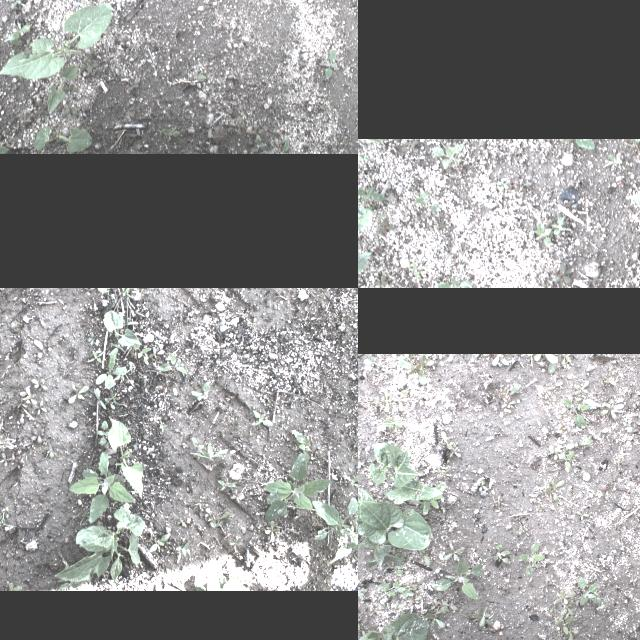crop: (0, 4, 111, 80), (54, 506, 144, 584), (358, 484, 431, 568), (368, 443, 440, 503), (109, 418, 143, 498), (358, 614, 429, 640), (46, 63, 80, 114), (32, 126, 92, 152), (103, 310, 141, 346), (376, 416, 406, 432)
weed: (68, 451, 136, 523), (264, 453, 330, 521), (311, 497, 358, 563), (435, 556, 485, 600), (94, 348, 126, 388), (518, 542, 546, 580), (429, 144, 463, 172), (192, 437, 228, 463), (564, 398, 590, 429), (378, 579, 418, 599), (407, 357, 435, 385), (422, 485, 448, 515), (530, 219, 554, 251), (576, 576, 600, 608), (165, 67, 207, 85), (292, 429, 312, 465), (468, 603, 494, 629), (157, 352, 187, 373), (207, 512, 233, 536), (552, 262, 578, 284), (358, 183, 390, 200), (9, 19, 33, 41), (7, 36, 35, 54), (435, 275, 472, 288), (362, 356, 392, 372), (558, 139, 596, 151), (358, 251, 373, 281), (148, 532, 170, 552), (68, 384, 90, 404), (190, 380, 212, 400), (492, 542, 512, 564), (250, 409, 274, 427), (546, 478, 564, 502), (358, 203, 375, 228), (324, 50, 338, 80), (96, 420, 112, 446), (600, 402, 626, 418), (412, 188, 432, 208), (603, 153, 623, 173), (436, 600, 460, 616), (553, 589, 577, 605), (81, 54, 99, 74), (556, 616, 574, 636), (0, 506, 17, 527), (134, 343, 150, 365), (341, 472, 358, 492), (394, 390, 411, 410), (418, 384, 438, 401), (228, 116, 244, 136), (264, 522, 280, 542), (442, 545, 462, 561), (535, 386, 555, 402), (250, 122, 264, 144), (162, 126, 180, 142), (416, 550, 432, 568), (427, 612, 445, 628), (514, 177, 534, 191), (94, 388, 106, 410), (559, 602, 575, 618), (553, 218, 567, 236), (87, 349, 105, 363), (472, 479, 490, 493), (547, 444, 565, 458), (573, 381, 591, 395), (532, 353, 560, 362), (412, 258, 423, 280), (436, 466, 454, 479), (38, 100, 52, 116), (176, 541, 190, 557), (389, 552, 405, 566), (382, 388, 392, 410), (26, 386, 38, 404), (30, 378, 48, 390), (601, 374, 619, 386), (626, 424, 640, 439), (31, 427, 44, 443), (149, 346, 165, 359), (429, 200, 446, 212), (217, 479, 237, 489), (603, 483, 613, 503), (565, 450, 575, 470), (62, 102, 76, 116), (42, 445, 56, 459), (229, 488, 243, 502), (507, 382, 521, 396), (375, 275, 391, 287), (396, 354, 412, 366), (441, 432, 453, 448), (382, 426, 398, 438), (530, 491, 544, 504), (402, 142, 420, 152), (492, 356, 510, 366), (499, 398, 517, 408), (578, 436, 596, 446), (128, 78, 140, 92), (496, 179, 508, 193), (35, 400, 47, 414), (0, 452, 12, 466), (448, 446, 462, 458), (428, 598, 442, 610), (576, 510, 590, 522), (365, 138, 385, 146), (227, 535, 243, 545), (548, 381, 564, 391), (65, 84, 79, 95), (4, 582, 23, 590), (7, 0, 23, 9), (104, 397, 116, 409), (493, 492, 503, 506), (408, 597, 422, 607), (516, 525, 530, 535), (594, 596, 604, 610), (628, 573, 638, 587), (349, 516, 358, 531), (250, 142, 266, 150), (158, 420, 168, 432), (60, 583, 80, 589), (558, 409, 568, 421), (562, 354, 574, 364), (633, 401, 640, 418), (281, 138, 289, 152), (547, 362, 557, 373), (568, 628, 577, 640), (18, 397, 28, 407), (120, 288, 131, 297), (320, 104, 328, 116), (373, 396, 379, 412), (363, 393, 371, 405), (83, 288, 96, 295), (177, 516, 186, 526), (144, 378, 150, 392), (414, 430, 421, 442), (358, 445, 361, 471), (219, 577, 225, 589), (0, 391, 7, 401), (358, 592, 365, 602), (565, 444, 575, 451), (292, 502, 300, 510), (7, 49, 17, 55), (134, 438, 144, 444), (88, 332, 94, 342), (358, 618, 362, 632), (433, 353, 442, 359), (558, 636, 571, 640), (1, 129, 7, 137), (194, 586, 206, 590), (284, 57, 290, 63), (355, 9, 358, 19), (358, 575, 360, 590), (333, 480, 339, 484), (102, 74, 106, 78)
